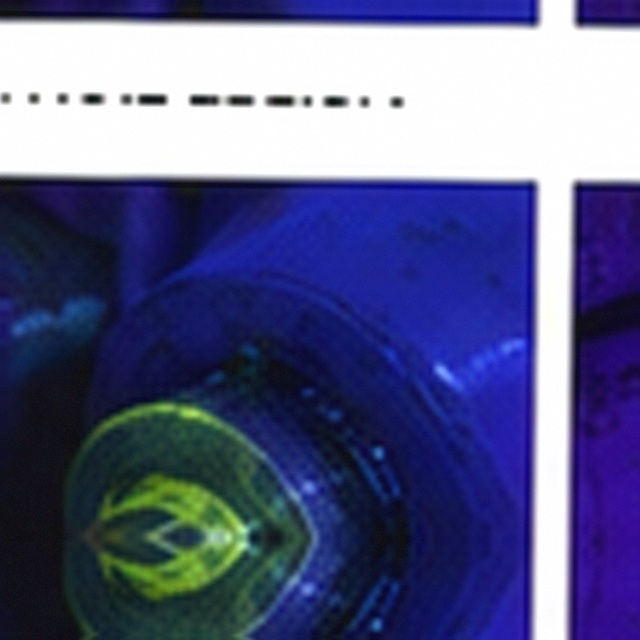hydraulic_oil_leak: (92, 402, 302, 592), (156, 424, 160, 427), (230, 581, 233, 583)
